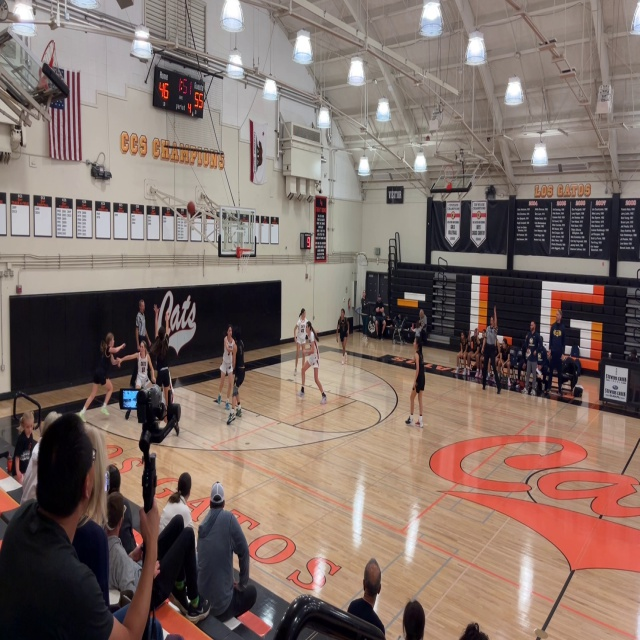Basketball: (187, 201, 196, 214)
